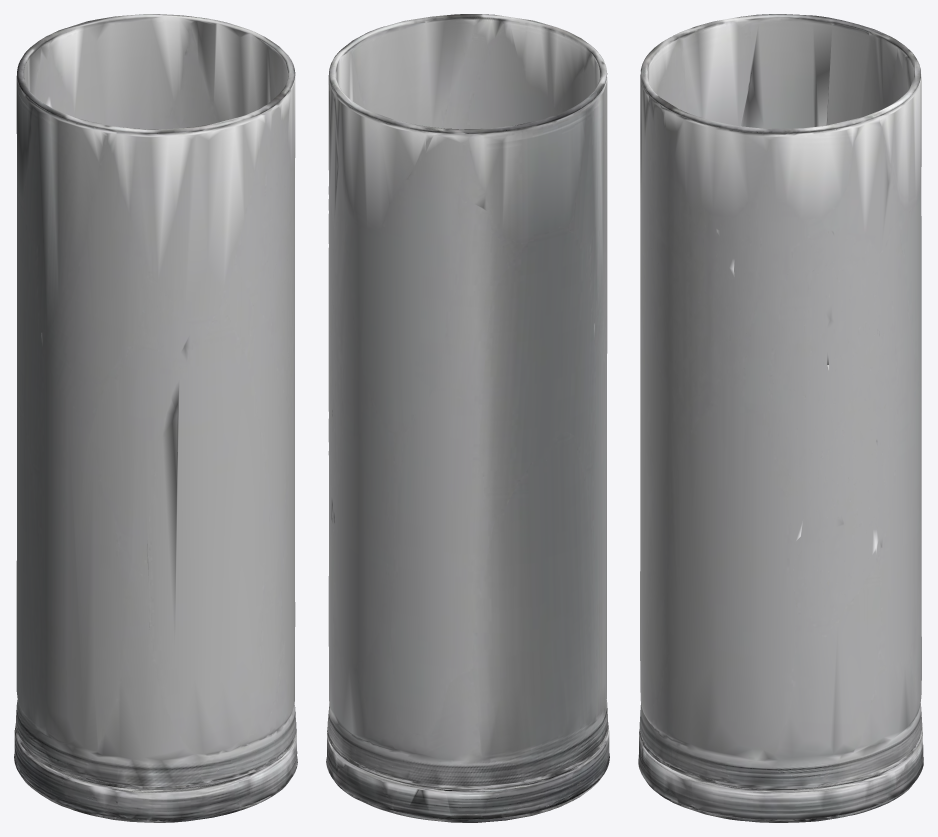
File: fl-vase-glass-cylinder.glb
The picture shows the model from 3 angles, left to right: view 1: azimuth 30°, elevation 25°; view 2: azimuth 150°, elevation 25°; view 3: azimuth 270°, elevation 25°; orthographic projection.
Visible parts, largest first — view 1: node_0; view 2: node_0; view 3: node_0.
Boxes of the visible parts, left/top/right/bottom form: node_0: left=14, top=14, right=297, bottom=822; node_0: left=326, top=14, right=609, bottom=822; node_0: left=638, top=14, right=923, bottom=822.
Size of the model in its own units: 0.4119 by 1.13 by 0.4202.
Materials: 1 (1 with a texture image).
